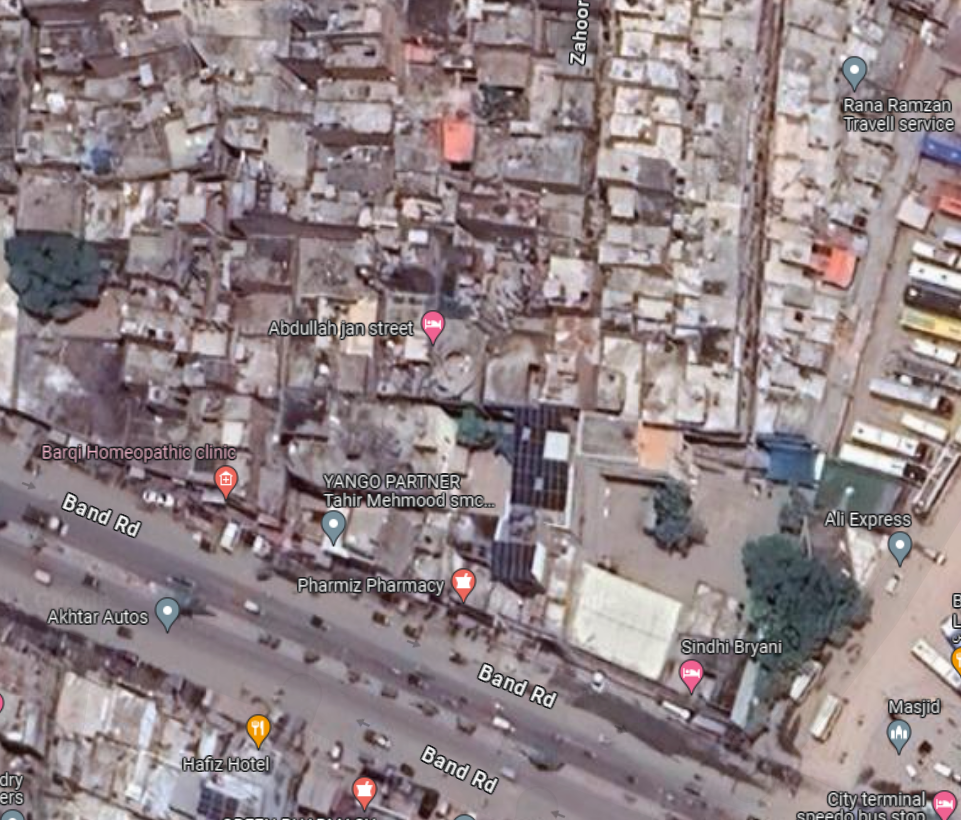solar-panel: (513, 410, 570, 516), (490, 535, 546, 578), (197, 778, 249, 820)
